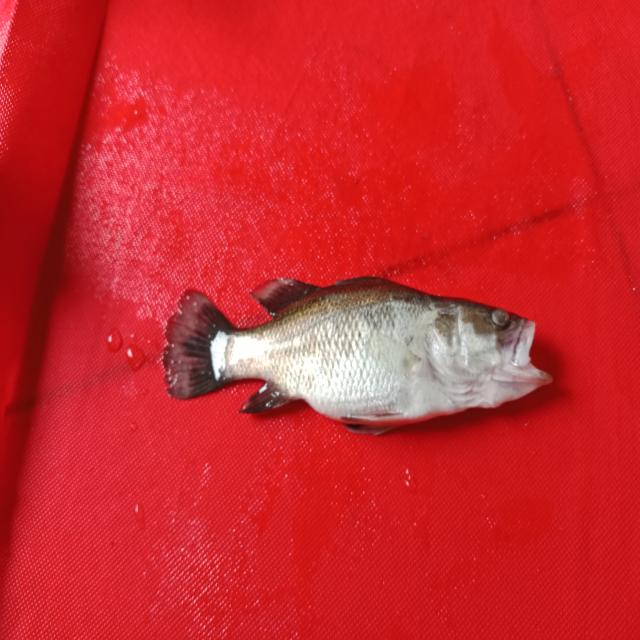ikan: (151, 252, 565, 441)
